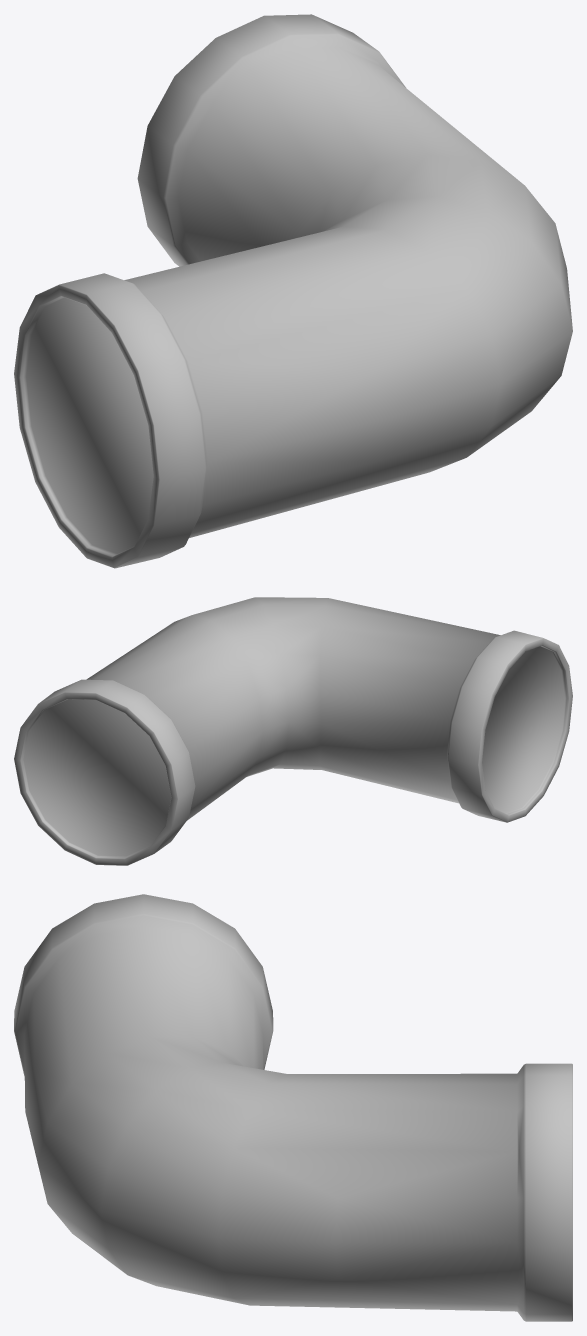
3 views of the same model, one above another, from view 1: azimuth 30°, elevation 25°; view 2: azimuth 150°, elevation 25°; view 3: azimuth 270°, elevation 25° (orthographic). The views are drawn at different scales.
Parts seen in each view (by area): view 1: Connecting_gateway_corner.002; view 2: Connecting_gateway_corner.002; view 3: Connecting_gateway_corner.002.
Part boxes in pixels (box(x1,y1,x2,y2)): Connecting_gateway_corner.002: box(14, 14, 572, 568); Connecting_gateway_corner.002: box(14, 597, 572, 865); Connecting_gateway_corner.002: box(14, 894, 572, 1321).
Bounding box in the file's own units: 7.49 × 3.48 × 7.49.
